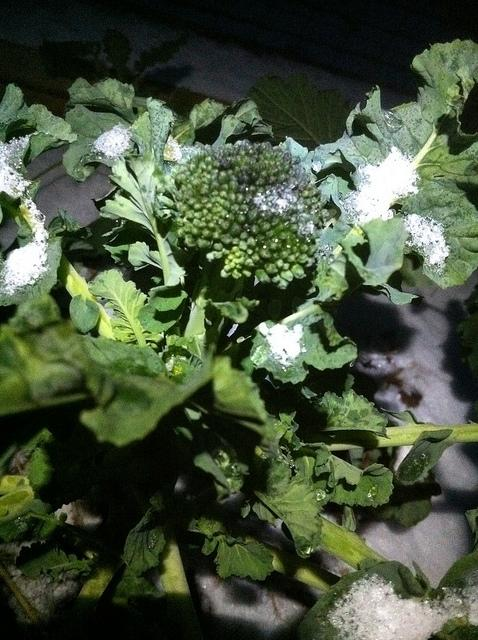broccoli: (170, 139, 328, 374)
